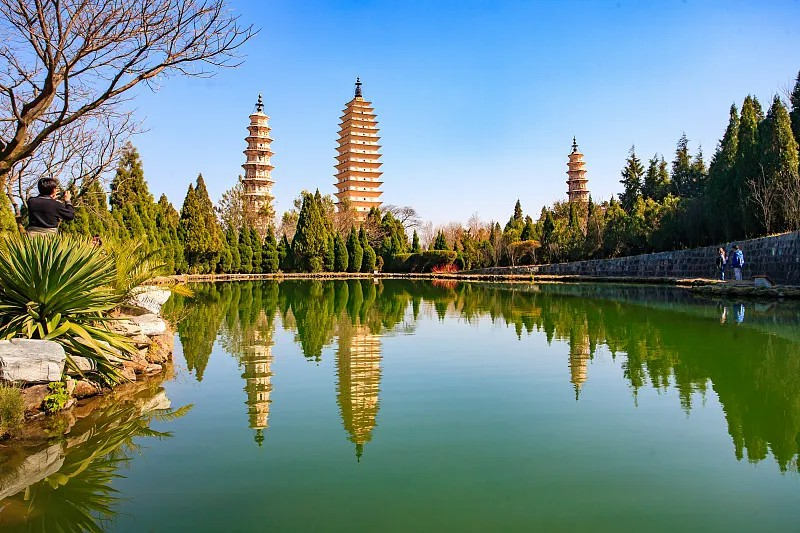ThreePagoda: (334, 77, 384, 212)
